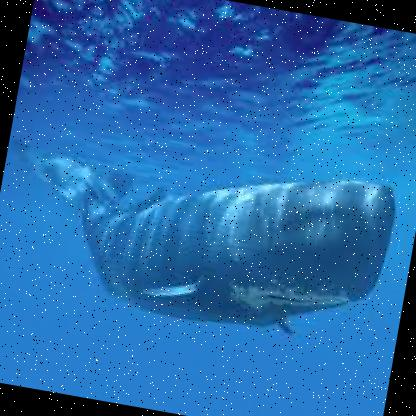sperm_whale: (0, 91, 406, 406)
